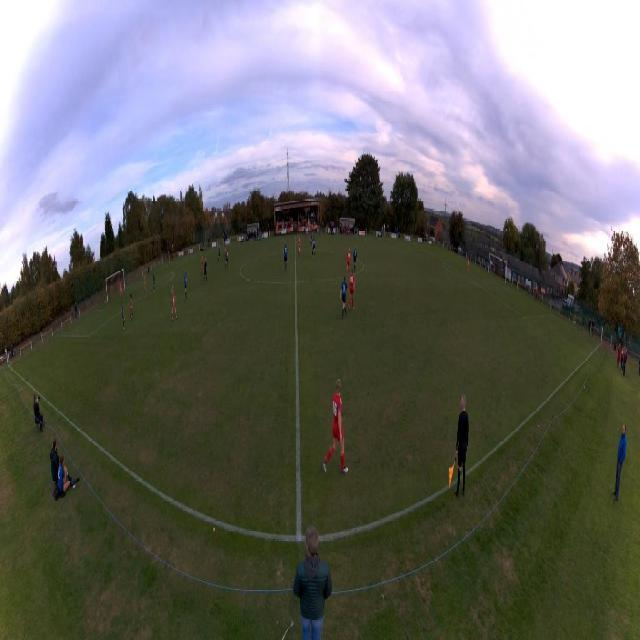ball: (172, 244, 173, 248)
player: (322, 379, 349, 473), (340, 275, 350, 319), (348, 269, 356, 311), (171, 286, 178, 321), (346, 247, 352, 276), (295, 234, 301, 258), (283, 243, 288, 270), (352, 245, 357, 272), (184, 270, 188, 301), (203, 259, 208, 283), (121, 301, 125, 330), (130, 294, 134, 320), (312, 236, 316, 258), (200, 254, 204, 274), (225, 250, 229, 270), (309, 228, 313, 246), (305, 223, 309, 238), (218, 245, 221, 264), (153, 274, 156, 292), (466, 256, 469, 274), (120, 281, 123, 298), (144, 276, 146, 294), (225, 242, 227, 258)
